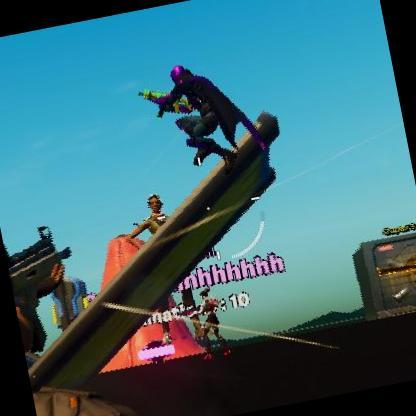person: (156, 55, 228, 162), (196, 292, 224, 349)
